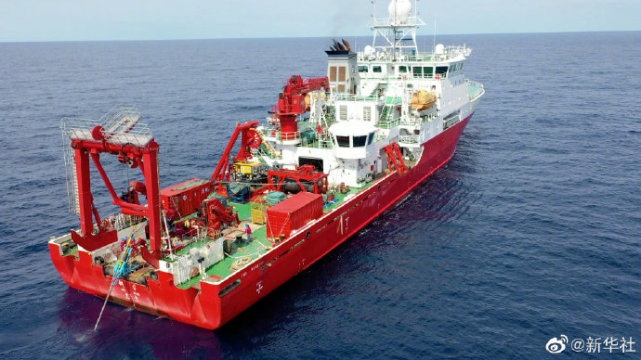warship: (28, 1, 485, 331)
